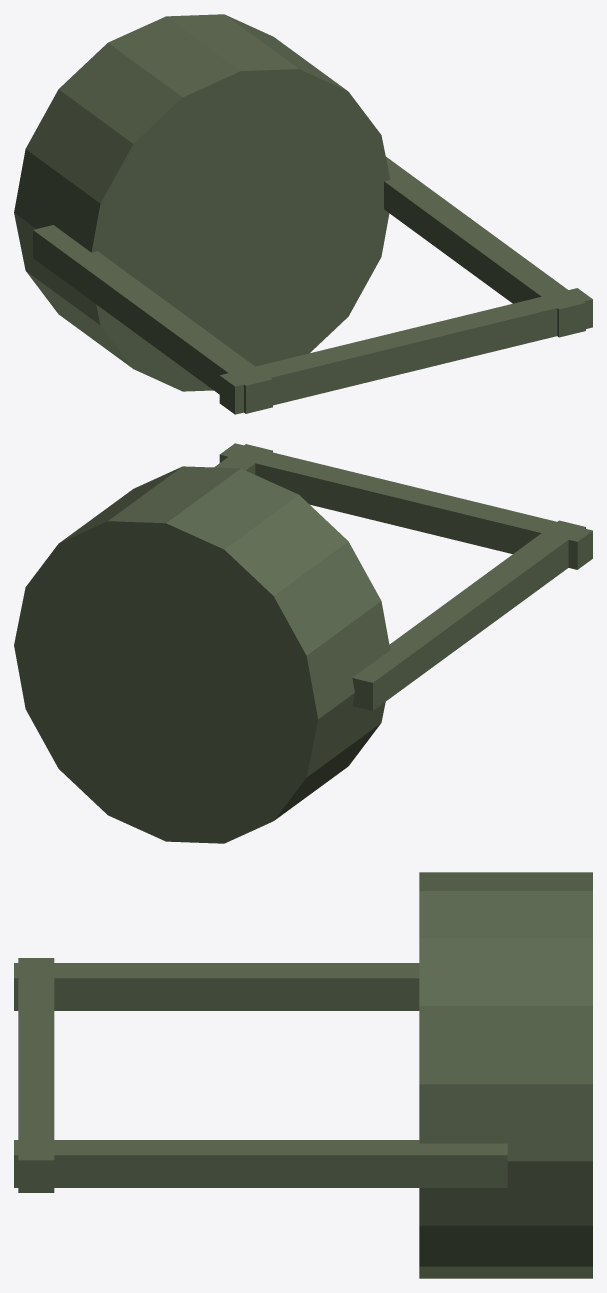
File: SM_ShPumpWell.obj
3 views of the same model, one above another, from view 1: azimuth 30°, elevation 25°; view 2: azimuth 150°, elevation 25°; view 3: azimuth 270°, elevation 25° (orthographic). The views are drawn at different scales.
Visible parts, largest first — view 1: SM_ShPumpWell; view 2: SM_ShPumpWell; view 3: SM_ShPumpWell.
Part boxes in pixels (x1,y1,x2,y2): SM_ShPumpWell: (14,14,592,414); SM_ShPumpWell: (14,443,592,843); SM_ShPumpWell: (14,872,592,1278).
Bounding box in the file's own units: 160 × 136 × 194.
